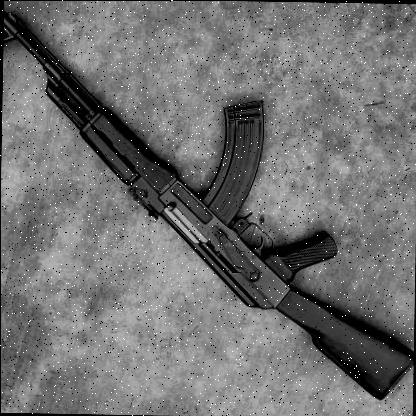rifle: (0, 13, 416, 412)
